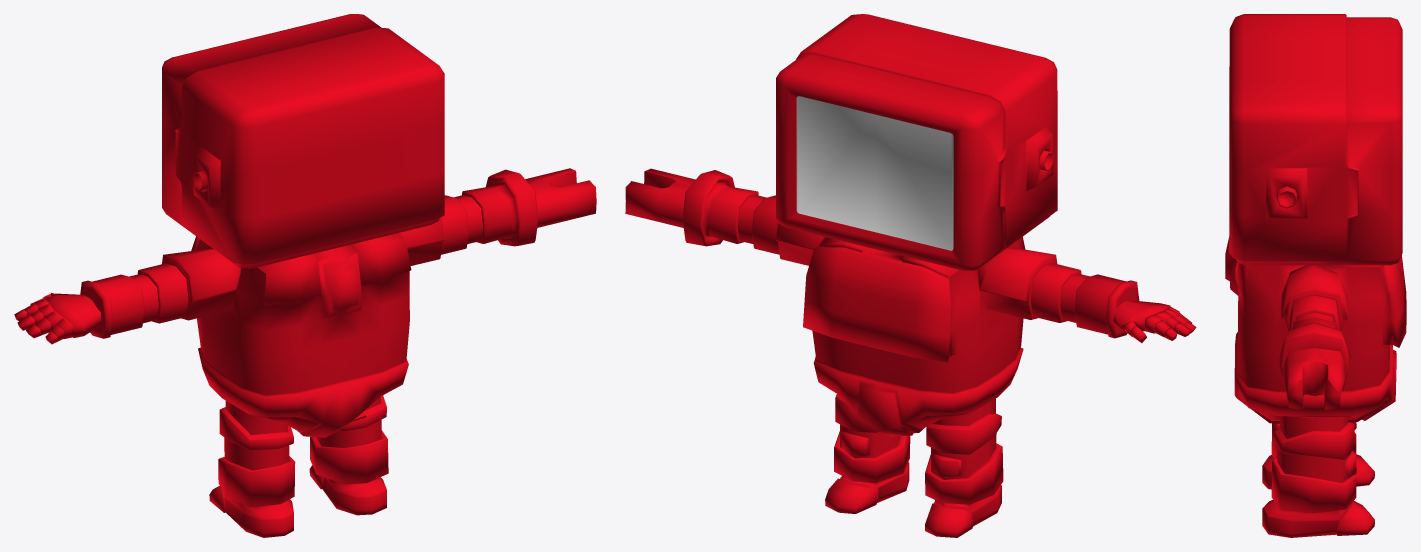
The model's file is uzunkol.glb.
3 views of the same model, side by side, from view 1: azimuth 30°, elevation 25°; view 2: azimuth 150°, elevation 25°; view 3: azimuth 270°, elevation 25° (orthographic).
Visible parts, largest first — view 1: Cube.014; view 2: Cube.014; view 3: Cube.014.
Part boxes in pixels (x1,y1,x2,y2): Cube.014: [14, 14, 596, 537]; Cube.014: [625, 14, 1196, 537]; Cube.014: [1225, 14, 1406, 537].
Bounding box in the file's own units: 2.71 × 2.06 × 0.7614.
